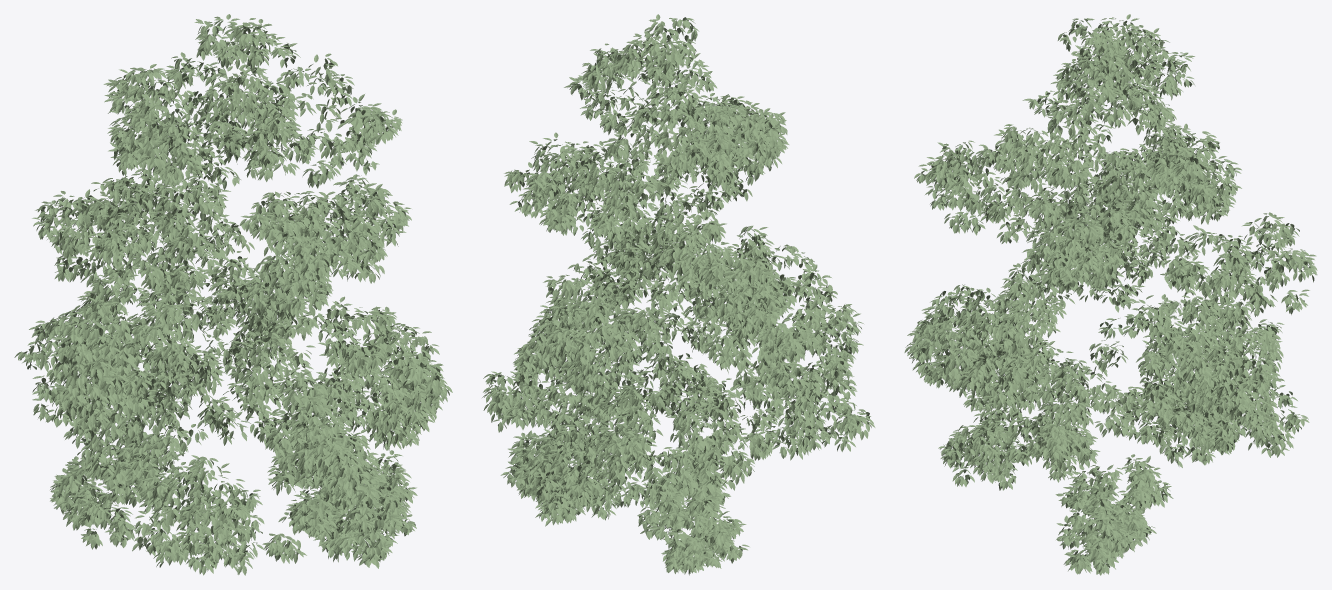
File: lujiazui-29.glb
3 renders of one model, left to right at view 1: azimuth 30°, elevation 25°; view 2: azimuth 150°, elevation 25°; view 3: azimuth 270°, elevation 25°, orthographic. The views are drawn at different scales.
Visible parts, largest first — view 1: source_4859_leaf_part2, source_4859_leaf_part1, source_4859_leaf_part0; view 2: source_4859_leaf_part2, source_4859_leaf_part1, source_4859_leaf_part0; view 3: source_4859_leaf_part1, source_4859_leaf_part2, source_4859_leaf_part0.
Part boxes in pixels (x1=…): source_4859_leaf_part2: x1=32, y1=14, x2=417, y2=567; source_4859_leaf_part1: x1=14, y1=173, x2=452, y2=500; source_4859_leaf_part0: x1=32, y1=313, x2=443, y2=575; source_4859_leaf_part2: x1=503, y1=14, x2=789, y2=572; source_4859_leaf_part1: x1=482, y1=151, x2=863, y2=457; source_4859_leaf_part0: x1=500, y1=274, x2=875, y2=575; source_4859_leaf_part1: x1=904, y1=168, x2=1317, y2=424; source_4859_leaf_part2: x1=914, y1=14, x2=1241, y2=575; source_4859_leaf_part0: x1=938, y1=275, x2=1309, y2=574.
Bounding box in the file's own units: 5.85 × 8.42 × 6.27.
